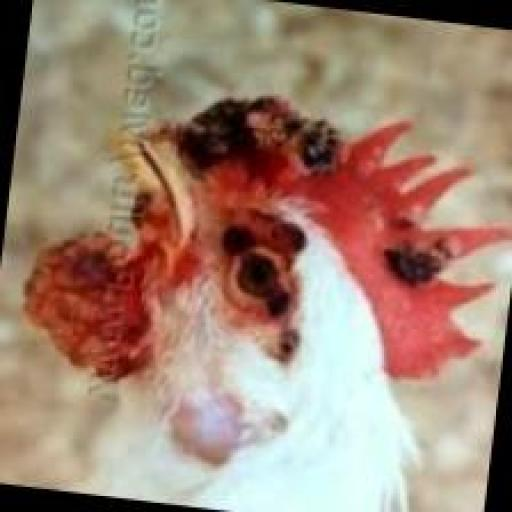disease: (136, 87, 507, 383), (20, 173, 174, 383), (213, 220, 303, 380)
